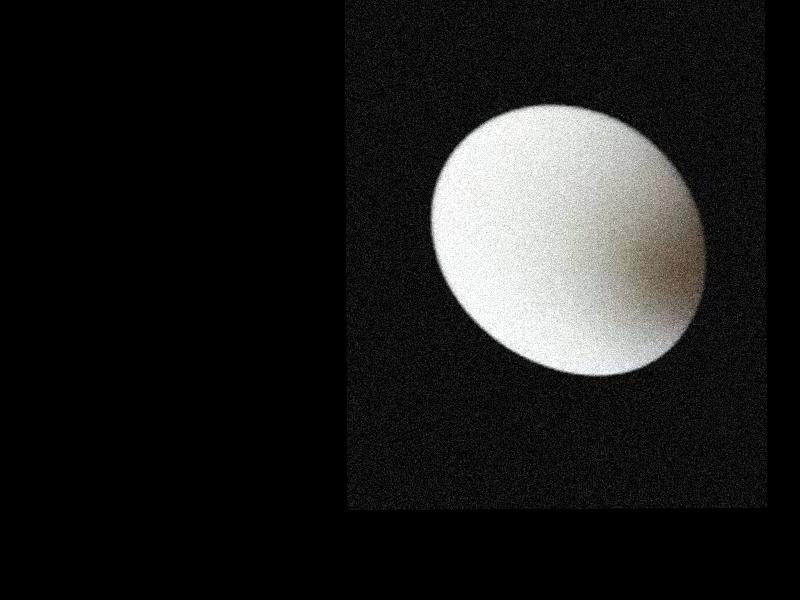Eggs: (430, 105, 702, 377)
